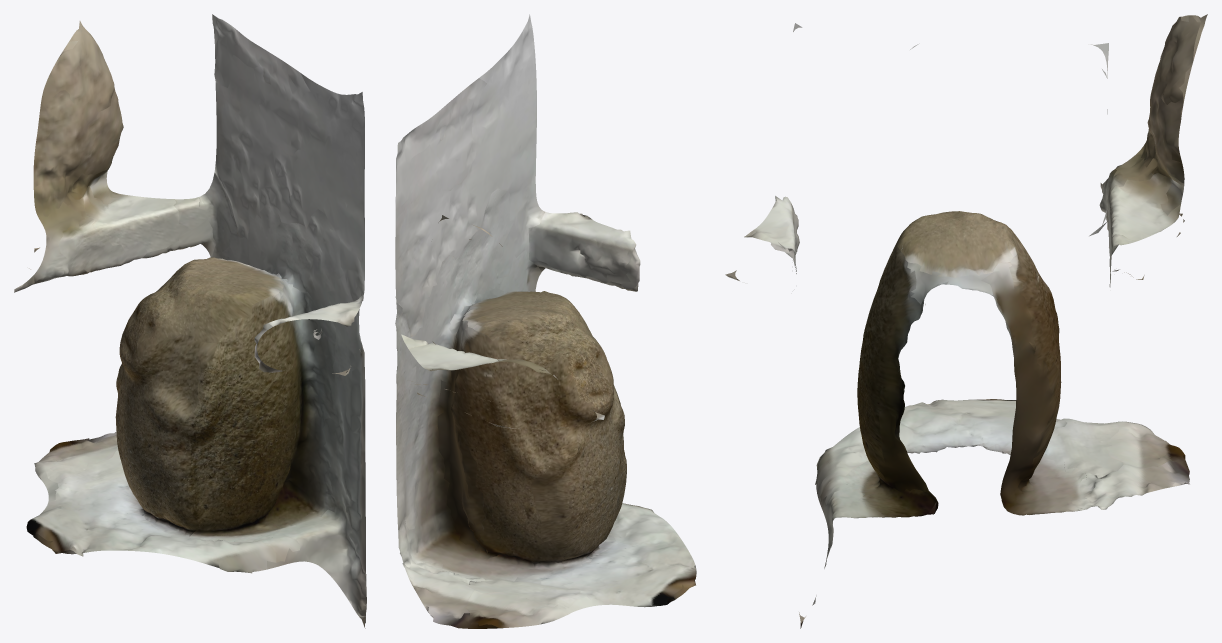
3 renders of one model, left to right at view 1: azimuth 30°, elevation 25°; view 2: azimuth 150°, elevation 25°; view 3: azimuth 270°, elevation 25°, orthographic. The views are drawn at different scales.
Visible parts, largest first — view 1: Object; view 2: Object; view 3: Object.
Boxes of the visible parts, <box> form: Object: <box>14,14,366,628</box>; Object: <box>395,14,696,628</box>; Object: <box>725,14,1207,628</box>.
Size of the model in its own units: 0.2777 by 0.5905 by 0.4283.
1 material, 1 textured.
